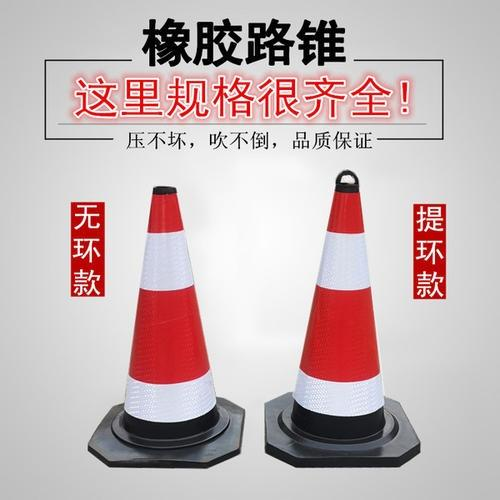cone_barrel: (269, 176, 408, 454), (98, 192, 238, 455)
